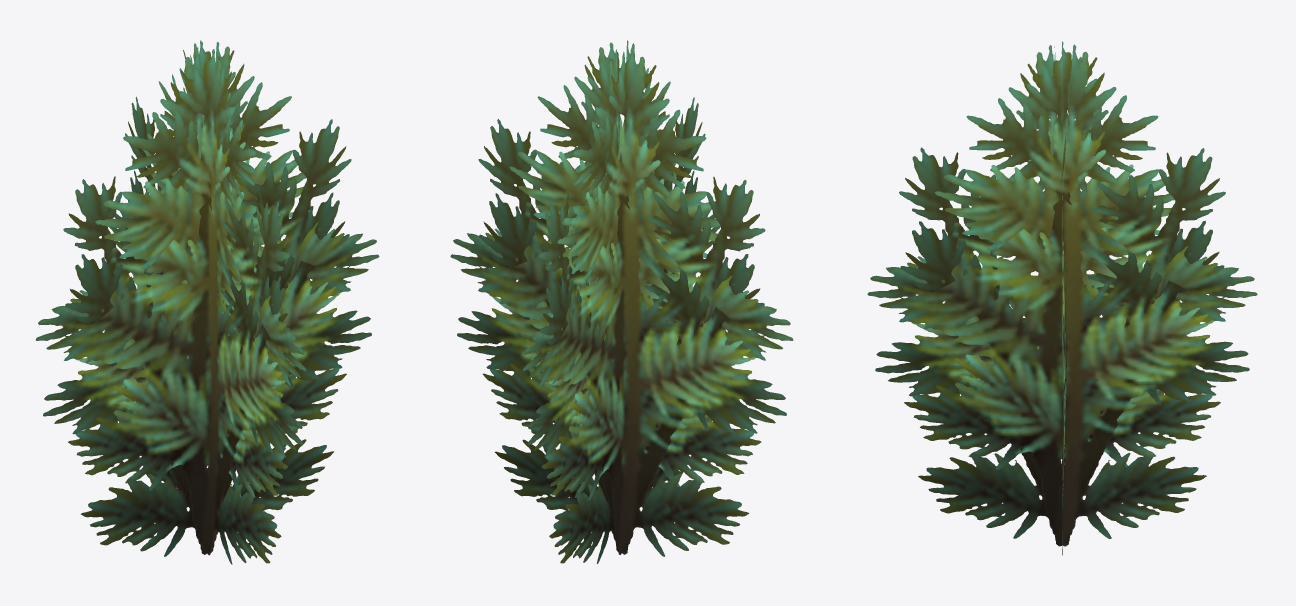
The model's file is painted-pine-2.glb.
3 renders of one model, left to right at view 1: azimuth 30°, elevation 25°; view 2: azimuth 150°, elevation 25°; view 3: azimuth 270°, elevation 25°, orthographic.
Size of the model in its own units: 7.6 by 10.32 by 7.6.
Materials: 1 (1 with a texture image).
